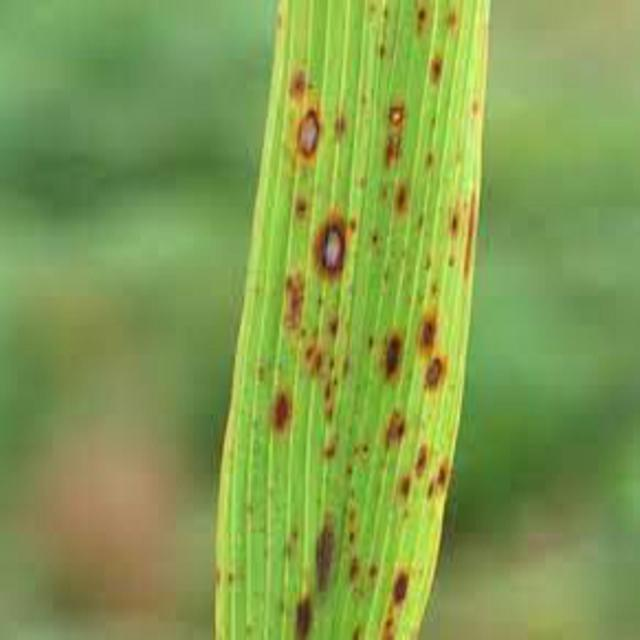Brown spot: (194, 2, 542, 640)
